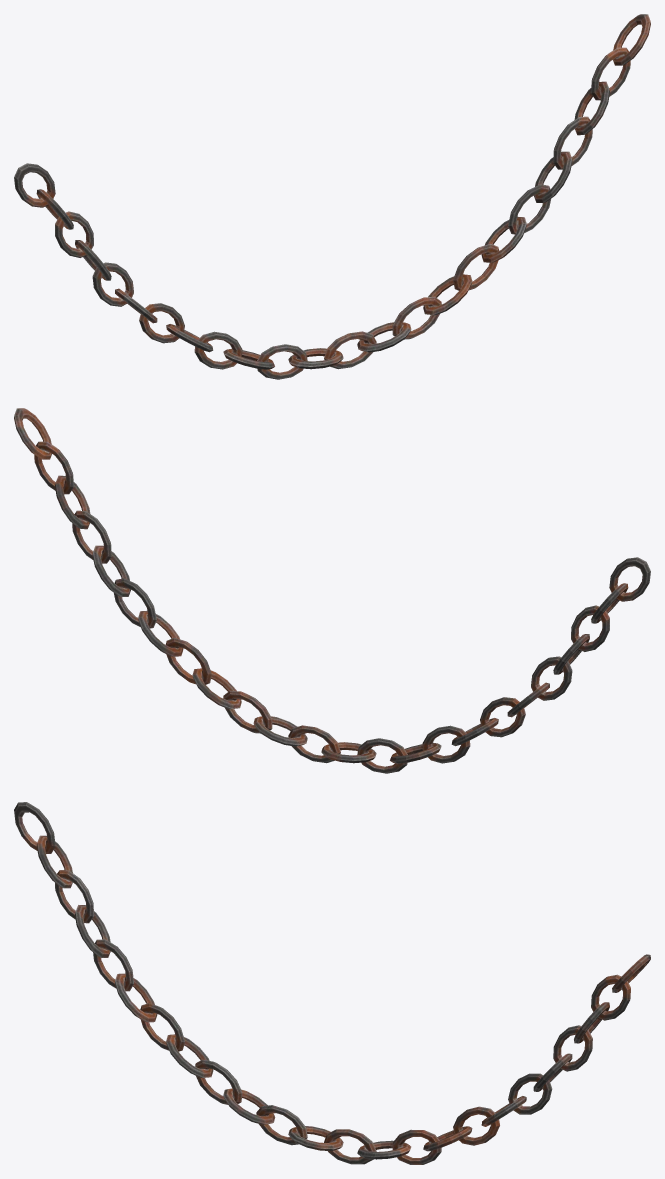
The model's file is kit_chain.glb.
The picture shows the model from 3 angles, top to bottom: view 1: azimuth 30°, elevation 25°; view 2: azimuth 150°, elevation 25°; view 3: azimuth 330°, elevation 25°; orthographic projection.
Visible parts, largest first — view 1: Chain; view 2: Chain; view 3: Chain.
Boxes of the visible parts, x1,y1,x2,y2 form: Chain: (14, 14, 650, 379); Chain: (14, 408, 650, 773); Chain: (14, 802, 650, 1164).
Size of the model in its own units: 1.91 by 0.8164 by 0.1.
Materials: 1 (1 with a texture image).
